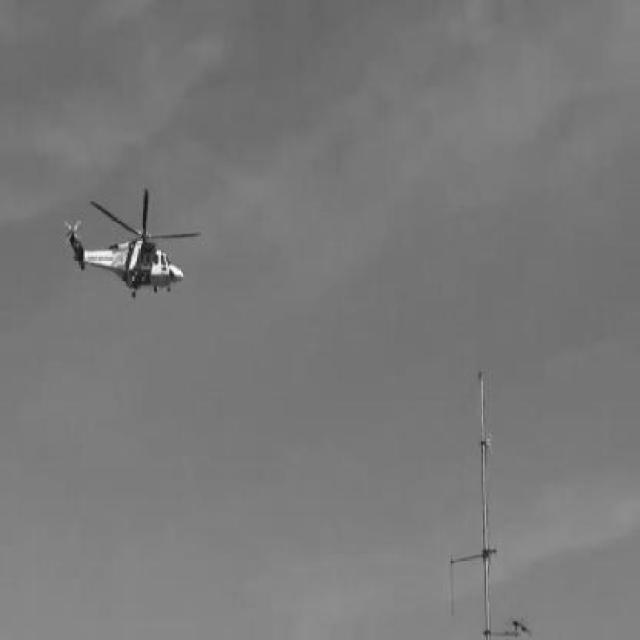helikopter: (60, 188, 212, 309)
